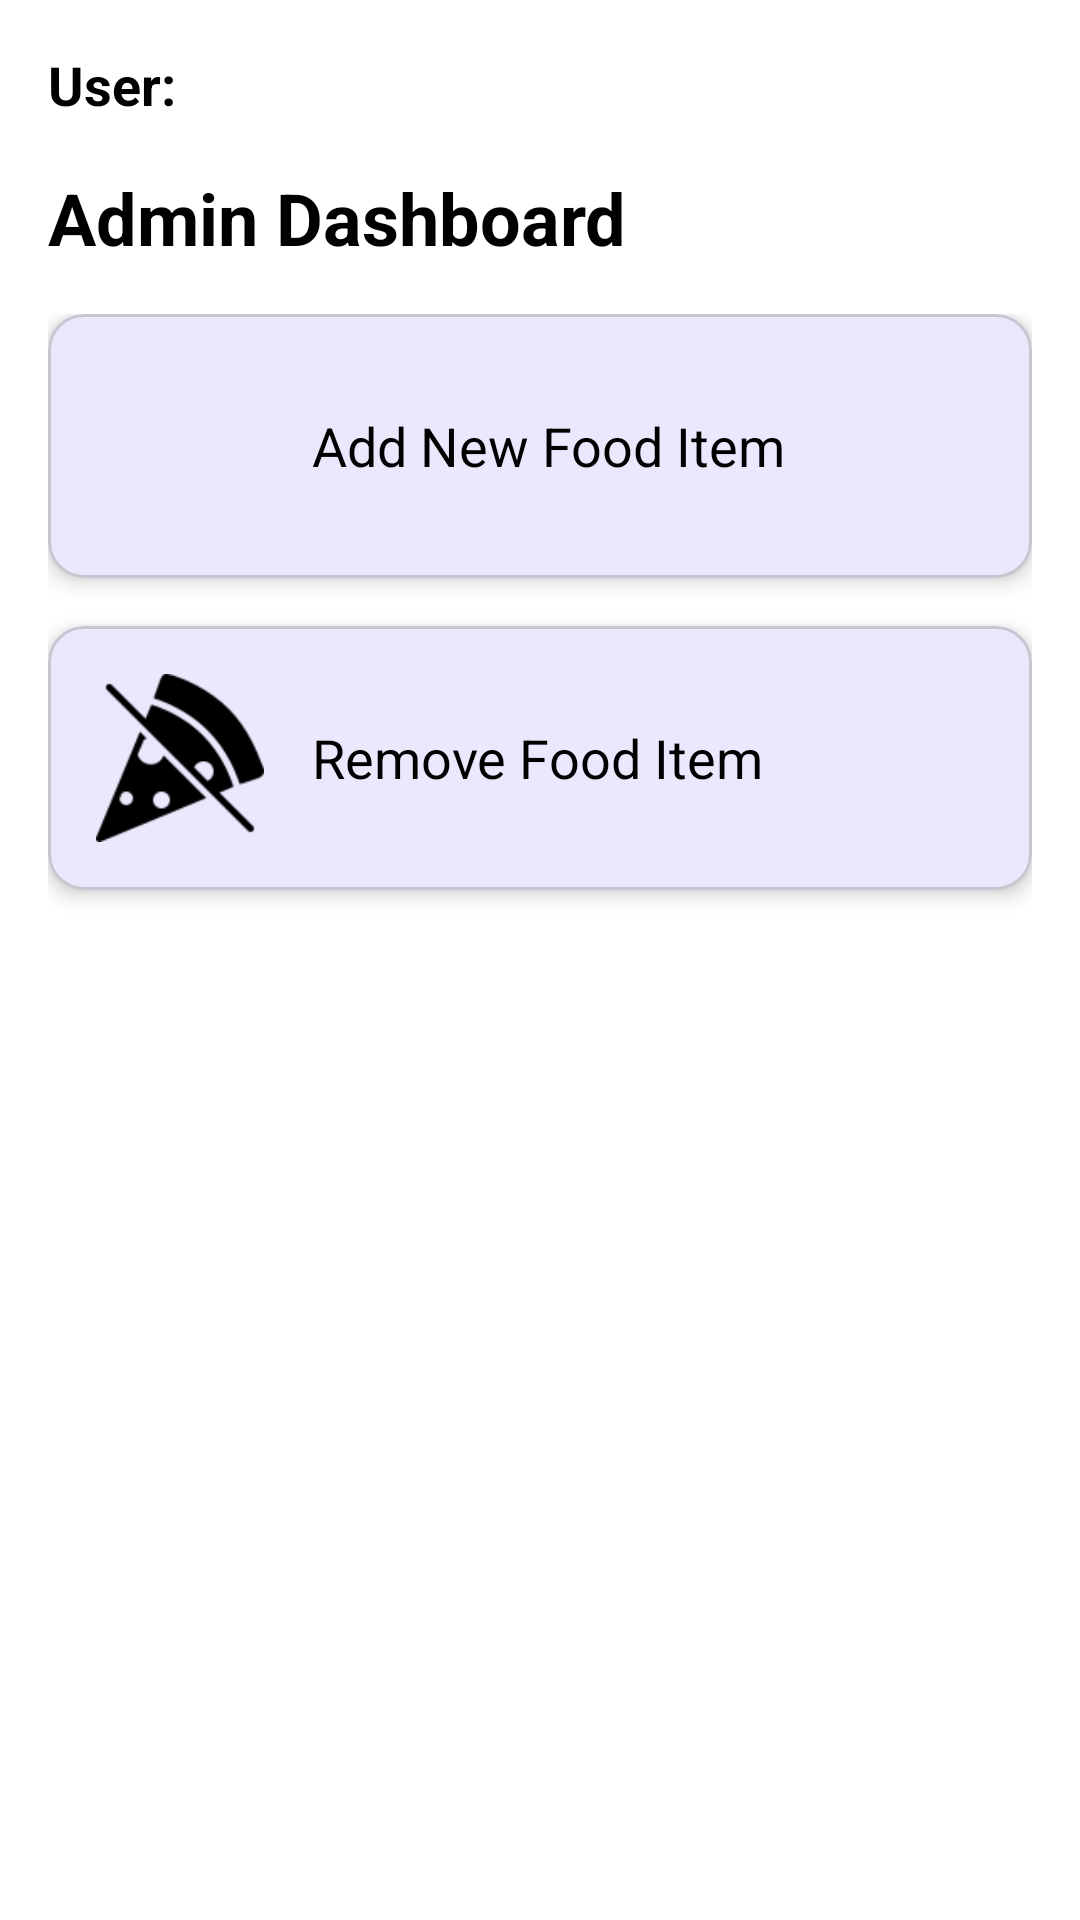

Named icons in this screenshot (1080*1920) and their bounding boxes, {"x1": x1, "y1": y1, "x2": x2, "y2": y2}:
foodremove: {"x1": 96, "y1": 674, "x2": 264, "y2": 842}
